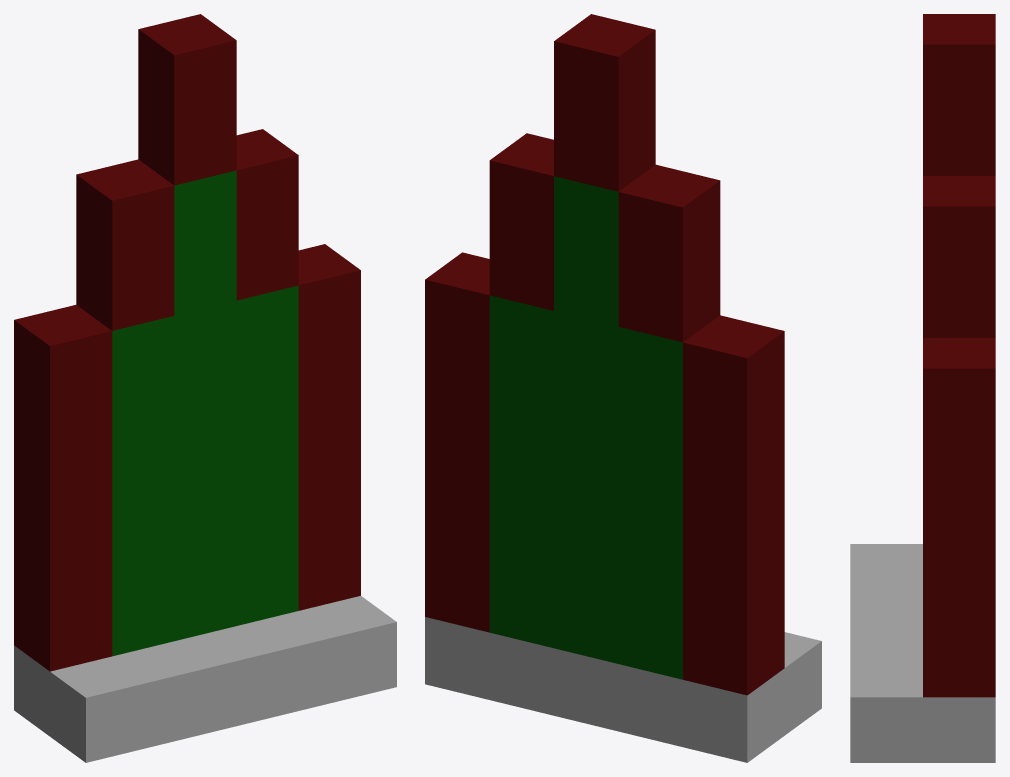
File: church2.cube.obj
3 views of the same model, side by side, from view 1: azimuth 30°, elevation 25°; view 2: azimuth 150°, elevation 25°; view 3: azimuth 270°, elevation 25° (orthographic). The views are drawn at different scales.
Bounding box in the file's own units: 5 × 10 × 2.
1 material, 1 textured.
